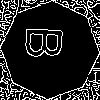B: (25, 25, 72, 61)
